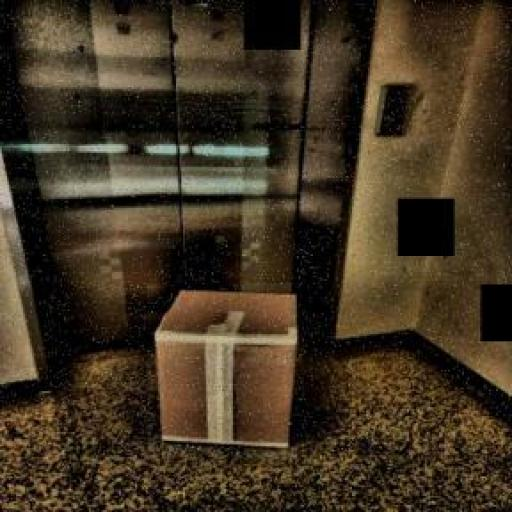box: (147, 284, 305, 458)
